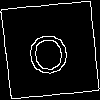O: (25, 25, 71, 76)
